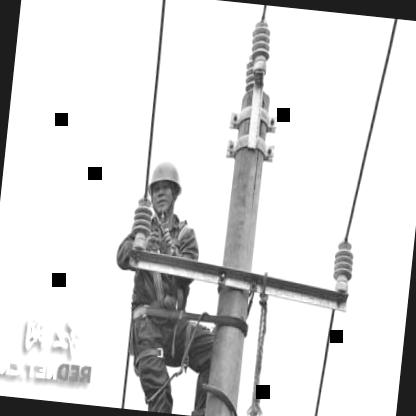helmet: (144, 154, 186, 222)
